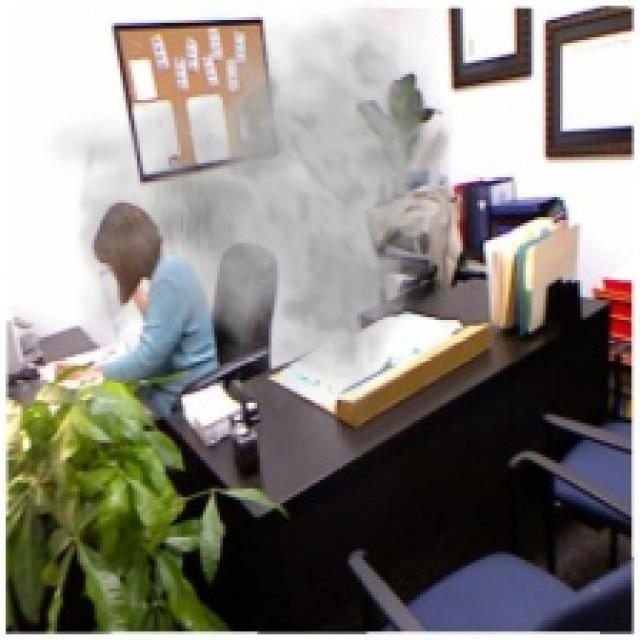Smoke: (39, 0, 454, 420)
